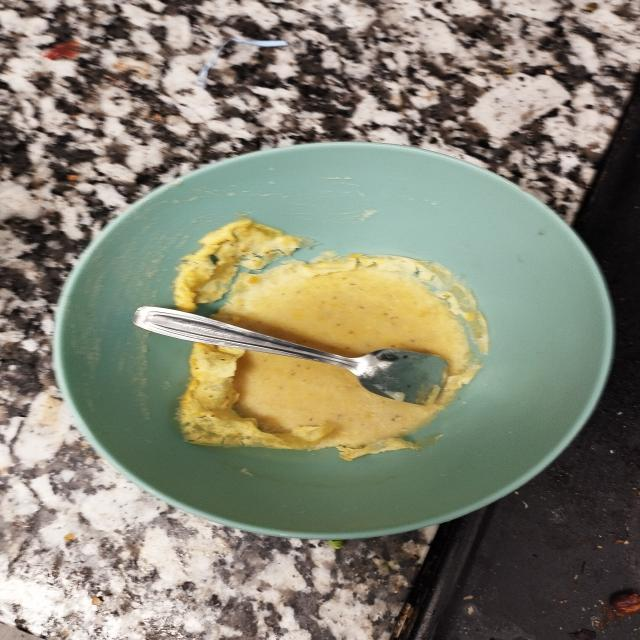Spoon: (126, 291, 480, 418)
